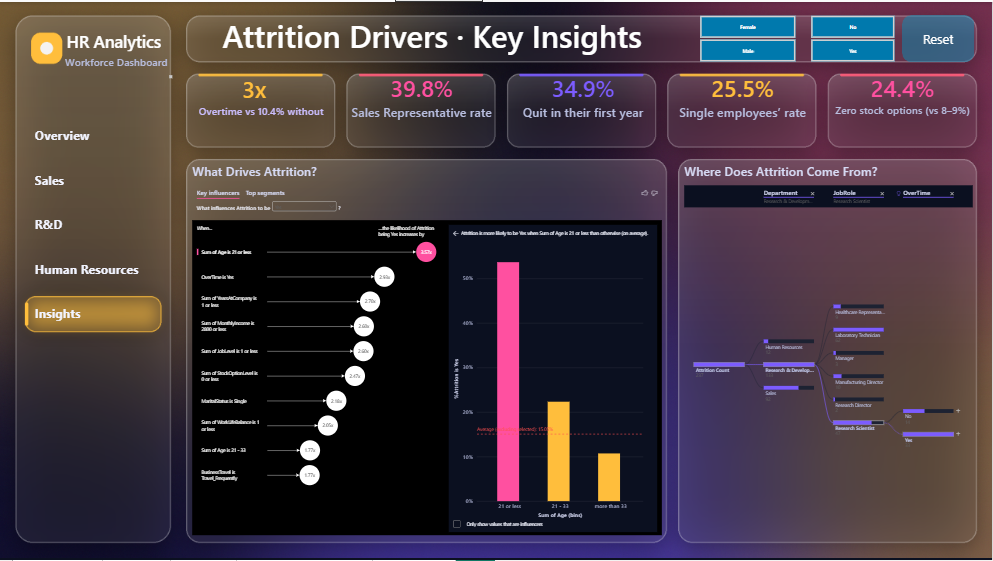

What the dashboard file says about the page in this screenshot:
{"tool":"powerbi","page":{"name":"Insights","canvas":[2560,1440],"ordinal":4},"visuals":[{"type":"actionButton","box":[70,765,353,76],"z":0},{"type":"actionButton","box":[70,303.3,353.3,76.7],"z":1000},{"type":"actionButton","box":[70,420,353,76],"z":2000},{"type":"actionButton","box":[70,650,353,76],"z":3000},{"type":"actionButton","box":[70,535,353,76],"z":4000},{"type":"textbox","title":"HR Analytics","box":[165,73.3,256.7,55],"z":5000},{"type":"textbox","title":"Workforce Dashboard","box":[166.7,136.7,276.7,60],"z":6000},{"type":"slicer","fields":{"Values":["HR.Gender"]},"box":[1785.8,34,286.3,122],"z":8000},{"type":"slicer","fields":{"Values":["HR.OverTime"]},"box":[2072.1,34,255.1,122],"z":9000},{"type":"actionButton","box":[2327.2,34,187.1,122],"z":10000},{"type":"textbox","box":[479.1,185,388.3,190],"z":11000},{"type":"textbox","box":[895.7,184.3,385.5,189.9],"z":12000},{"type":"textbox","box":[1312.4,184.3,382.7,189.9],"z":13000},{"type":"textbox","box":[1723.5,184.3,385.5,189.9],"z":14000},{"type":"textbox","box":[2134.5,184.3,390,189.9],"z":15000},{"type":"keyDriversVisual","title":"What Drives Attrition?","fields":{"ExplainBy":["HR.OverTime","Sum(HR.MonthlyIncome)","Sum(HR.JobLevel)","Sum(HR.StockOptionLevel)","Sum(HR.YearsAtCompany)","HR.MaritalStatus","HR.BusinessTravel","Sum(HR.WorkLifeBalance)","Sum(HR.Age)"],"Target":["HR.Attrition"]},"box":[479.1,399.7,1244.4,992.1],"z":16000},{"type":"decompositionTreeVisual","title":"Where Does Attrition Come From?","fields":{"Analyze":["HR.Attrition Count"],"ExplainBy":["HR.Department","HR.JobRole","HR.OverTime","HR.TenureBand"]},"box":[1749,399.7,776.7,992.1],"z":16001},{"type":"textbox","box":[479.1,34,1269.9,121.9],"z":16002}]}

Visuals, with their boxes in screenshot pixels (x1, y1, x2, y2), scaled from the page's 2560x1440 canvas onto the 993x561 screenshot:
actionButton: bbox=(27, 298, 164, 328)
actionButton: bbox=(27, 118, 164, 148)
actionButton: bbox=(27, 164, 164, 193)
actionButton: bbox=(27, 253, 164, 283)
actionButton: bbox=(27, 208, 164, 238)
"HR Analytics" textbox: bbox=(64, 29, 164, 50)
"Workforce Dashboard" textbox: bbox=(65, 53, 172, 77)
slicer - HR.Gender: bbox=(693, 13, 804, 61)
slicer - HR.OverTime: bbox=(804, 13, 903, 61)
actionButton: bbox=(903, 13, 975, 61)
textbox: bbox=(186, 72, 336, 146)
textbox: bbox=(347, 72, 497, 146)
textbox: bbox=(509, 72, 658, 146)
textbox: bbox=(669, 72, 818, 146)
textbox: bbox=(828, 72, 979, 146)
"What Drives Attrition?" keyDriversVisual: bbox=(186, 156, 669, 542)
"Where Does Attrition Come From?" decompositionTreeVisual: bbox=(678, 156, 980, 542)
textbox: bbox=(186, 13, 678, 61)
